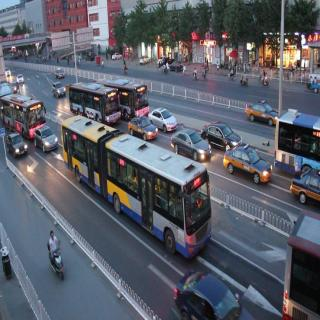BigCar: (59, 116, 206, 260), (102, 70, 152, 124), (69, 74, 121, 122)
Car: (167, 128, 219, 176), (277, 116, 320, 164), (230, 139, 270, 182)
